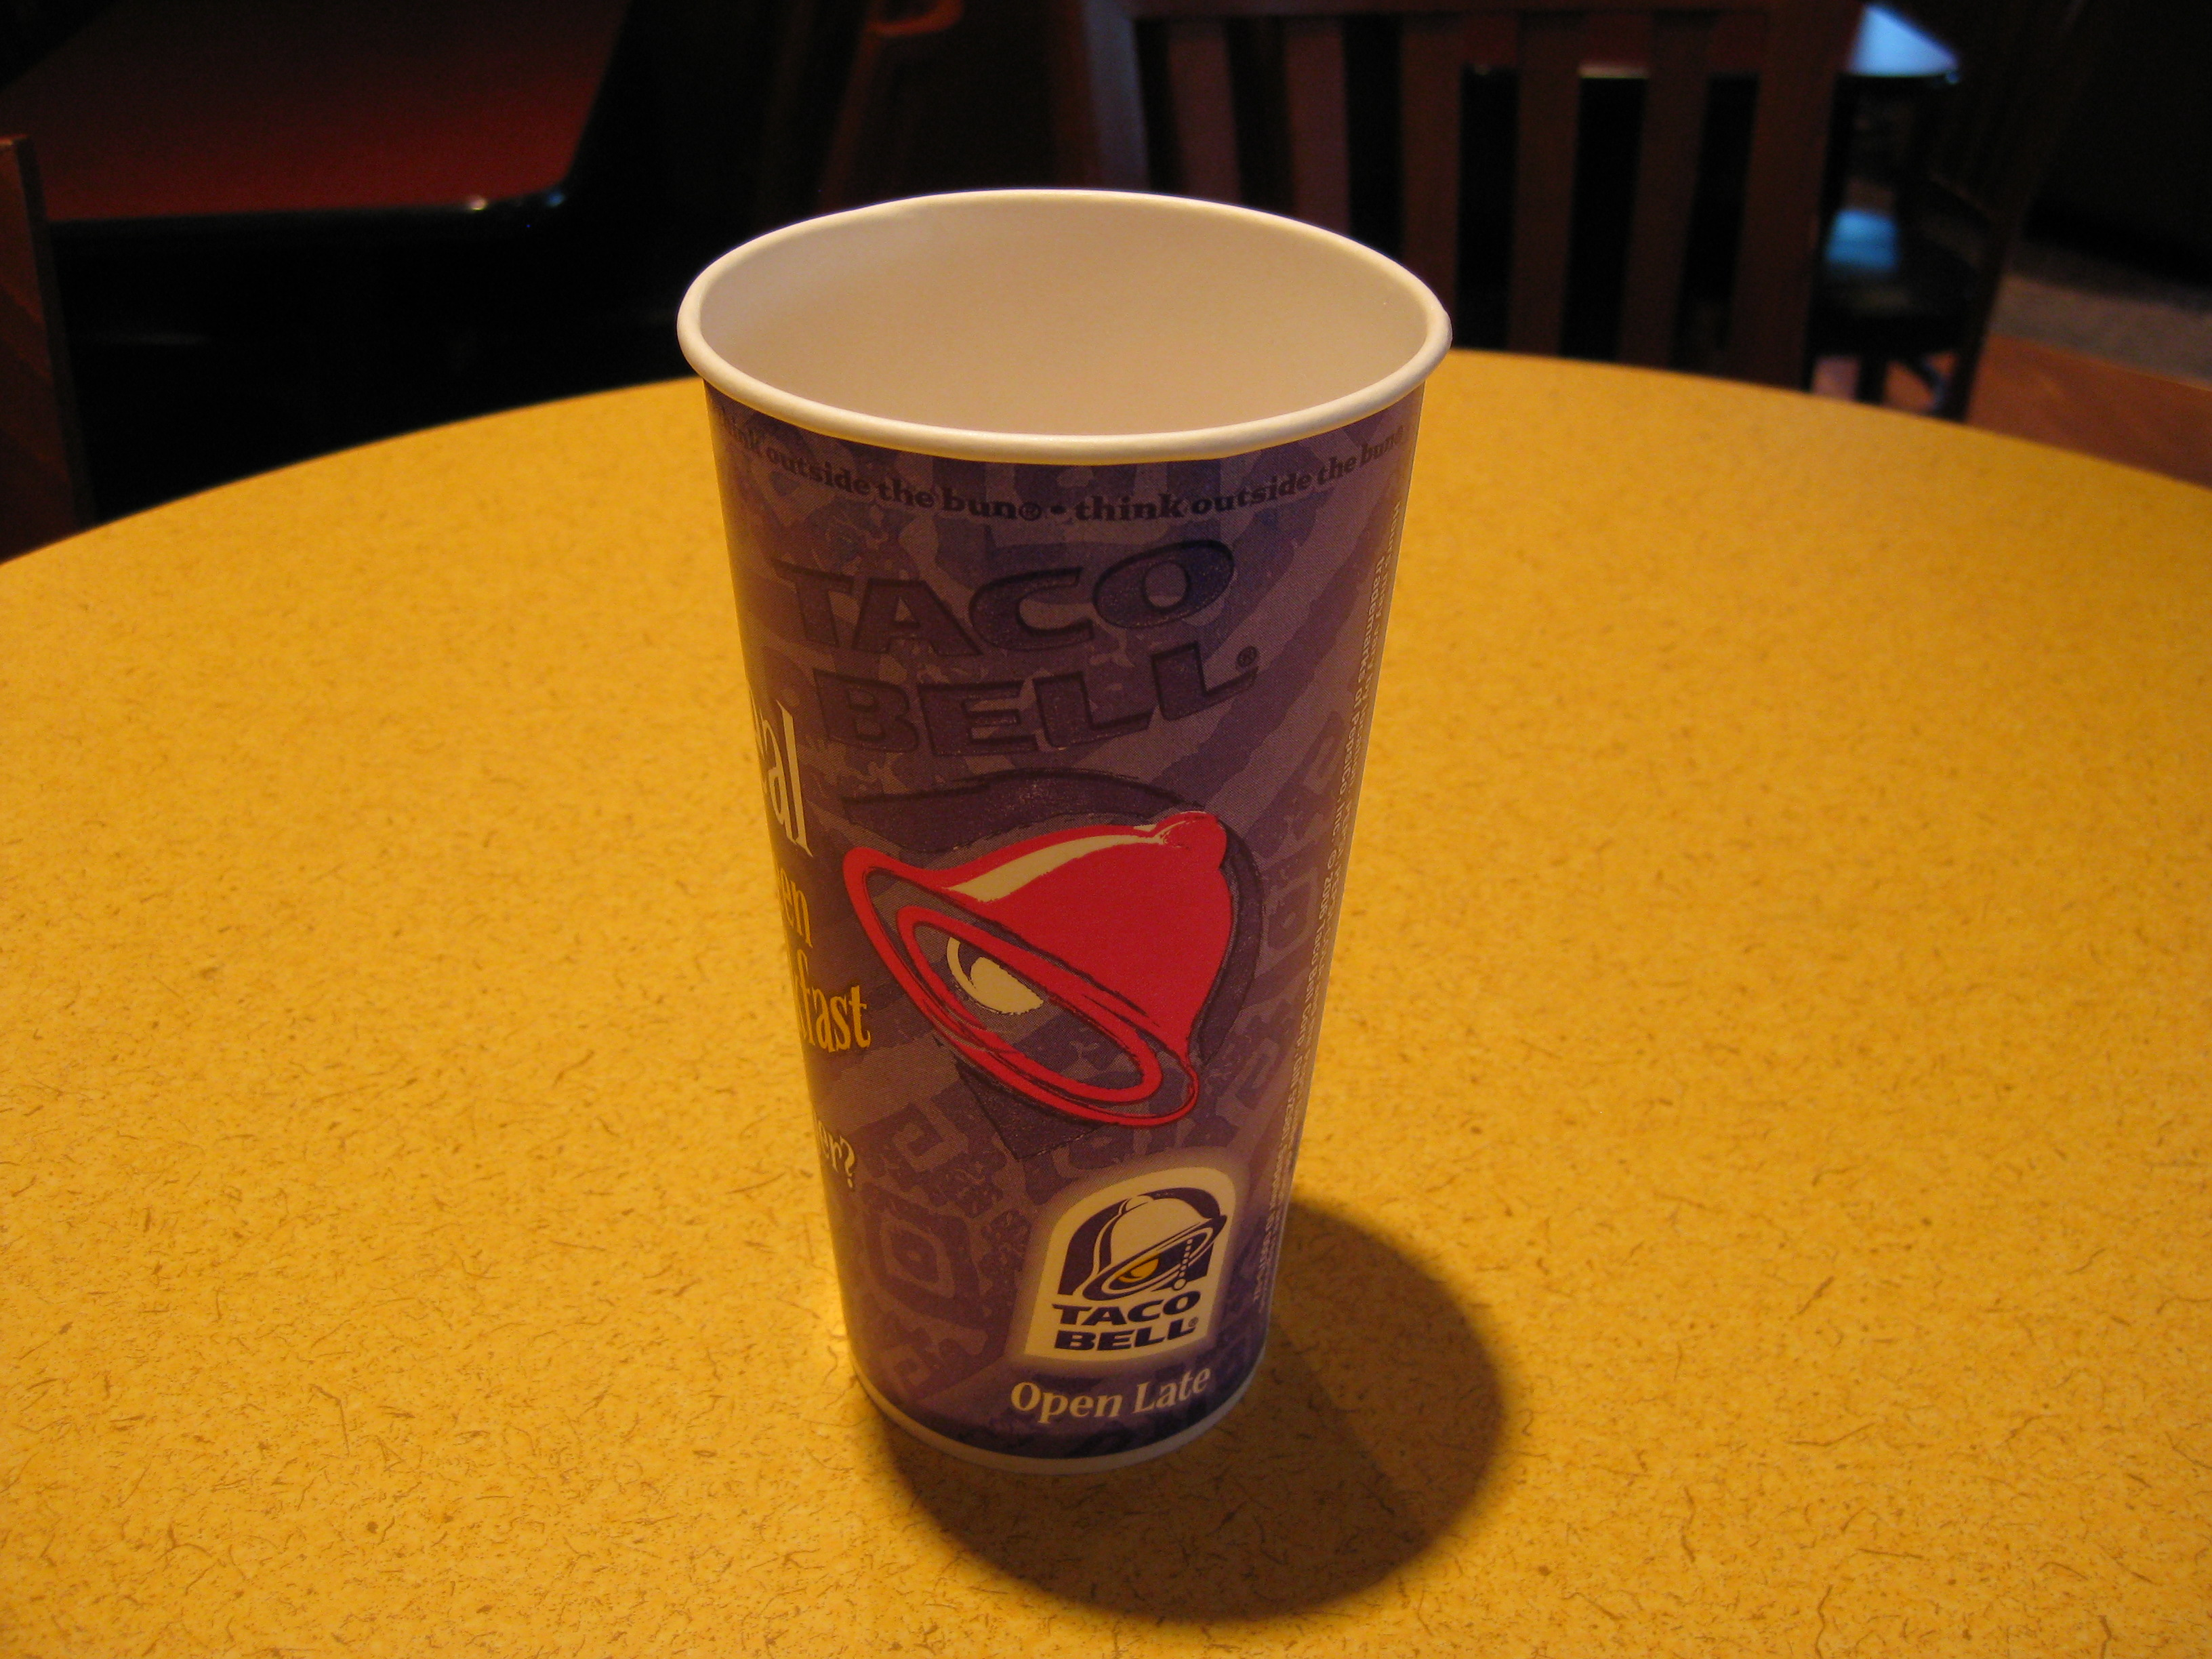drink: (605, 152, 1517, 1465)
